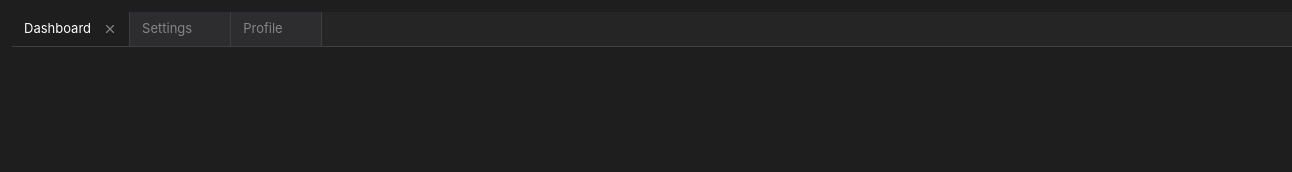
TabBar › context menu › disables Close to the Right on the last tab
Right-click the tab "Profile": (261, 29) top-left (231, 13), bottom-right (291, 45)
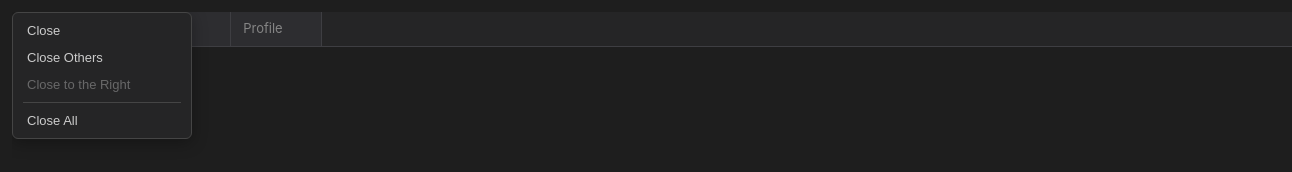
Check: the menu item "Close to the Right" is disabled, box top-left (17, 71), bottom-right (187, 98)
